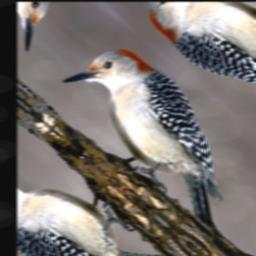Woodpecker: (45, 26, 256, 231)
